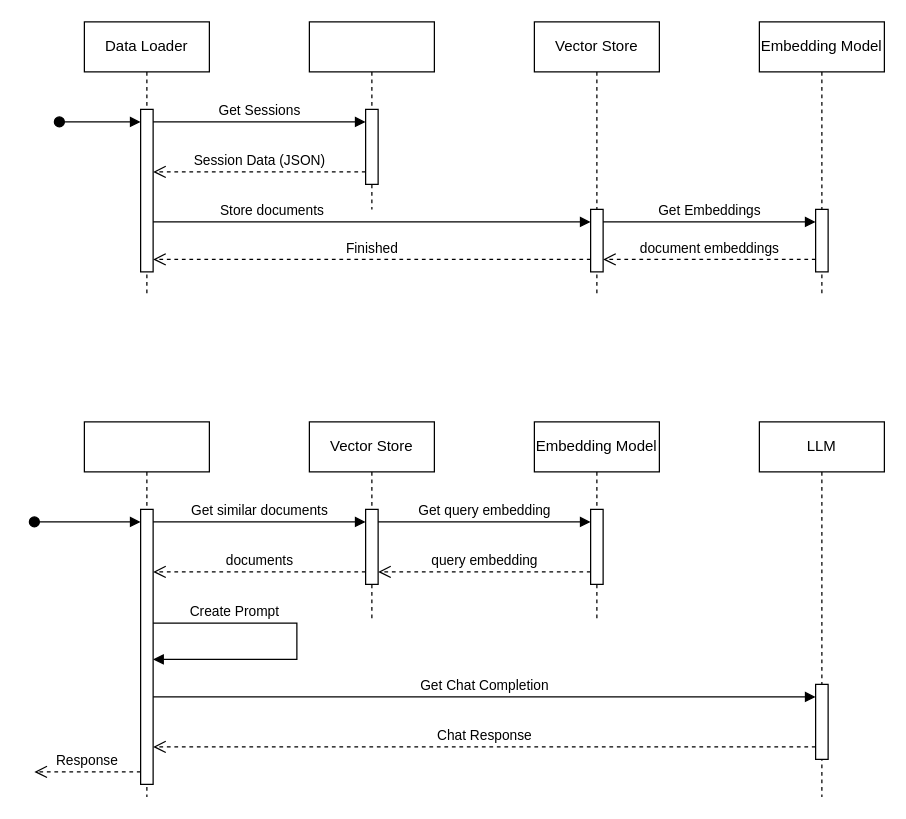
Some shapes in this 906 by 819 pixel diagram are drawn without their labels. Each missing label, with the box of its shape:
Chatbot: (83, 421, 209, 797)
Session API: (308, 21, 434, 209)
